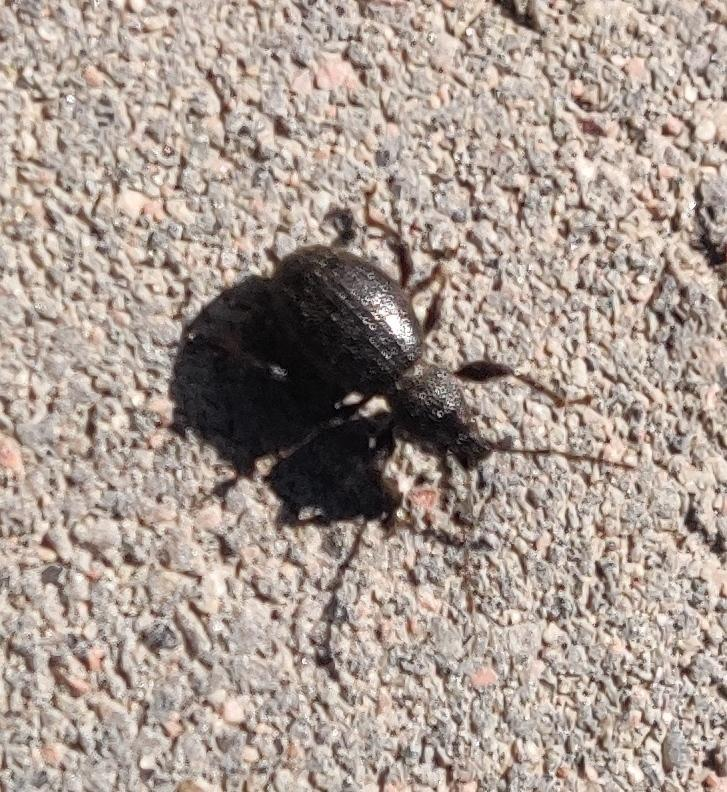weevils: (164, 174, 599, 570)
